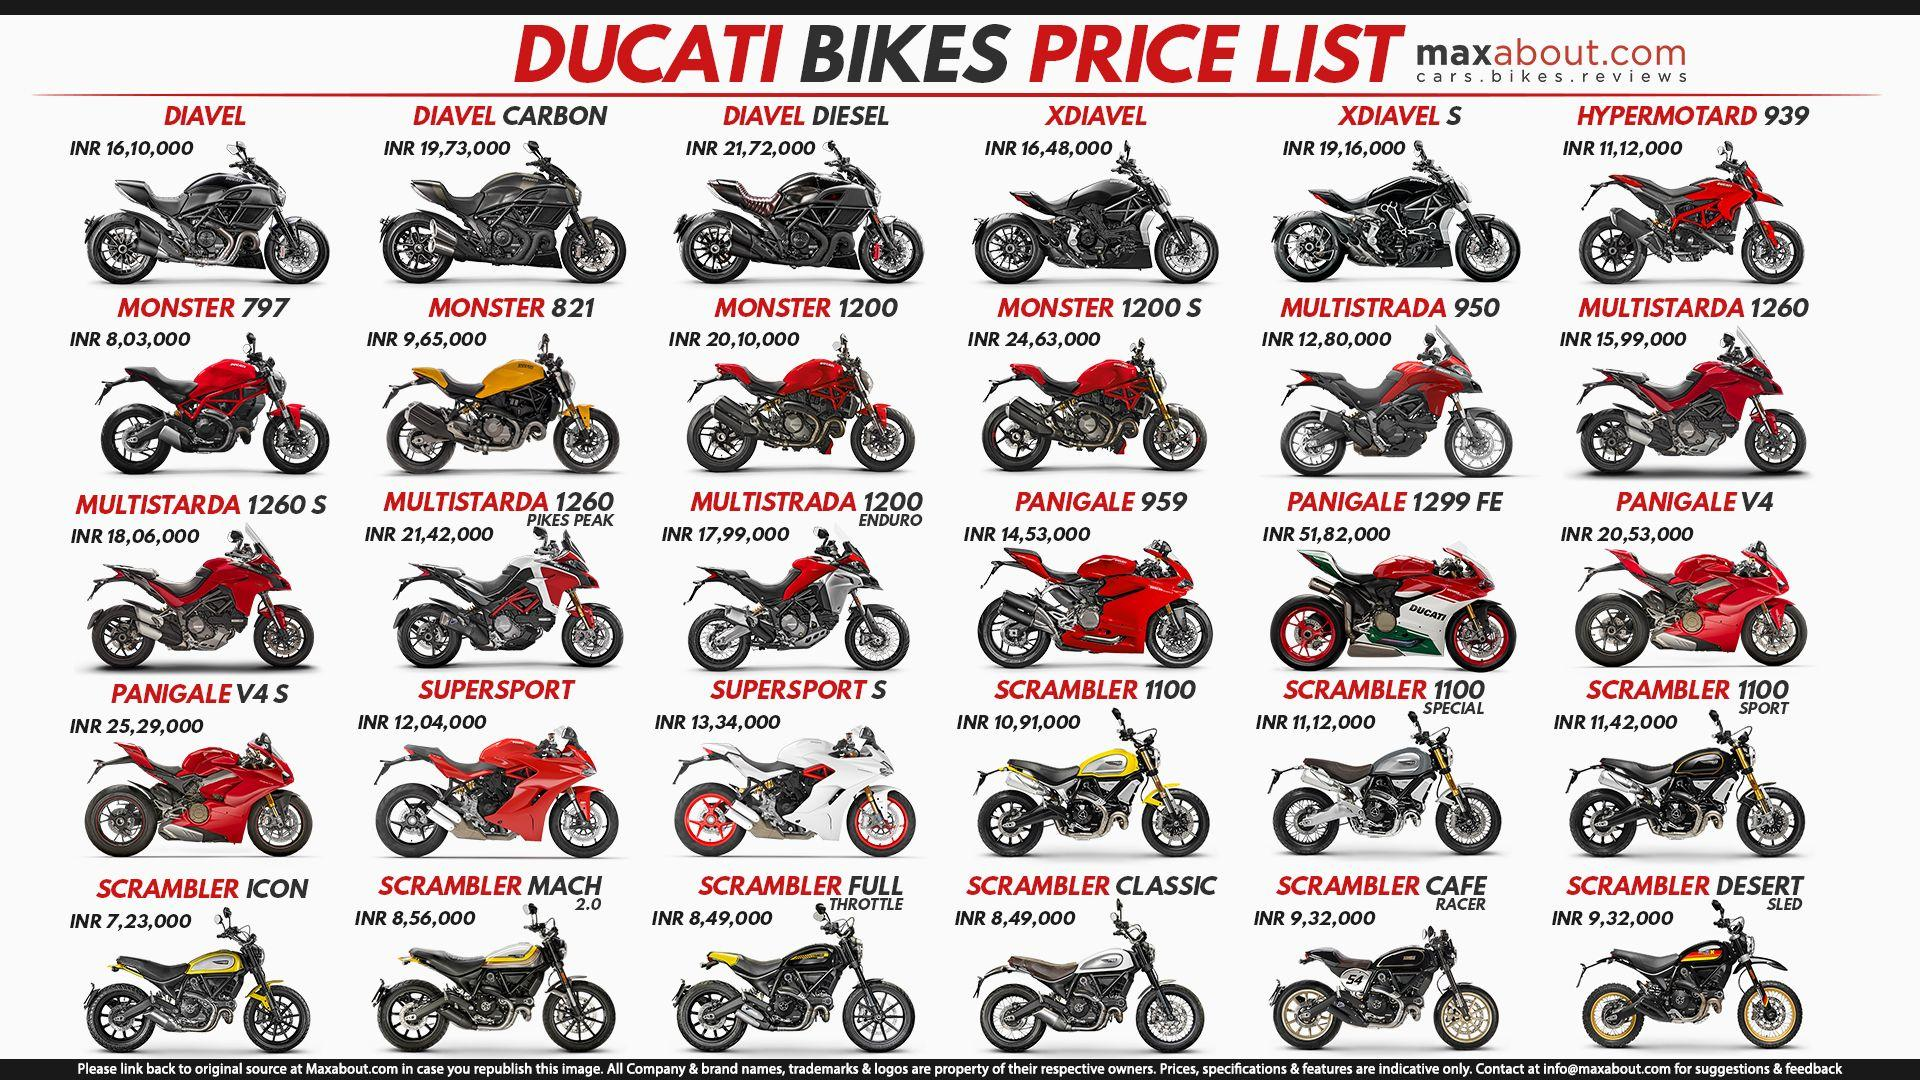Motorcycle: (33, 144, 349, 302), (67, 525, 364, 680), (53, 733, 367, 865), (1251, 533, 1547, 671), (1560, 141, 1837, 285), (971, 537, 1238, 682), (377, 173, 657, 311), (1532, 724, 1820, 858), (1271, 340, 1543, 481), (361, 911, 628, 1054), (1553, 342, 1826, 480), (1553, 531, 1818, 674), (680, 179, 965, 311), (956, 910, 1212, 1056), (1556, 907, 1813, 1052), (372, 526, 633, 669), (663, 725, 920, 866), (669, 535, 927, 674), (372, 719, 624, 860), (981, 170, 1240, 307), (949, 738, 1225, 866), (1259, 171, 1536, 297), (967, 348, 1238, 475), (1257, 731, 1522, 860), (372, 355, 657, 472), (70, 927, 330, 1055), (88, 367, 348, 493), (671, 920, 918, 1054), (1274, 930, 1532, 1048), (682, 349, 923, 468)
